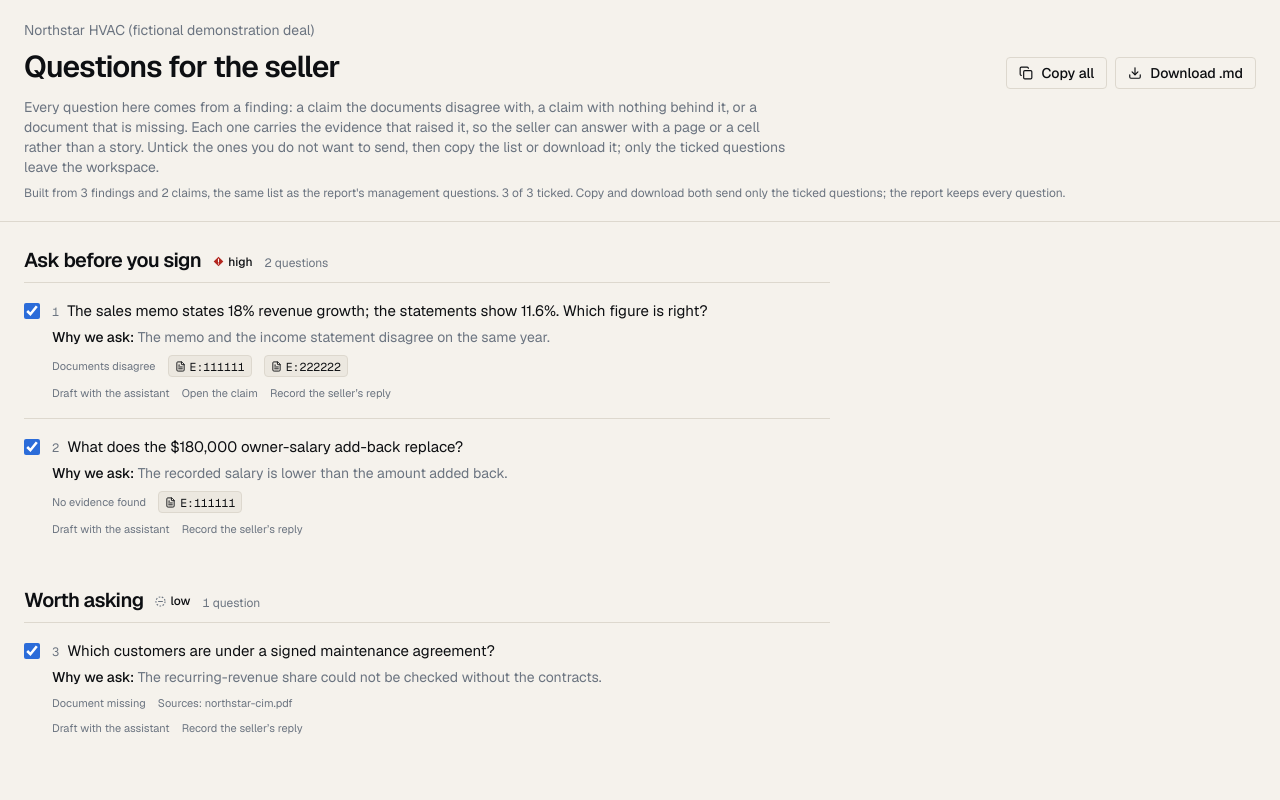
Scenario: Questions for the seller › copies only the ticked questions, with the reason and sources, and every question is ticked by default
The width and height of the screenshot is (1280, 800).
Expected: the checkbox named "Include question 1: The sales memo states 18% revenue growth" is checked, [24,303,40,319]
Expected: the checkbox named "Include question 3: Which customers are under a signed maint" is checked, [24,643,40,659]
What coordinates should you click on to do the following:
click the checkbox named "Include question 2: What does the $180,000 owner-salary add-"
I would click on:
 (32, 447)
Its box is [24,439,40,455].
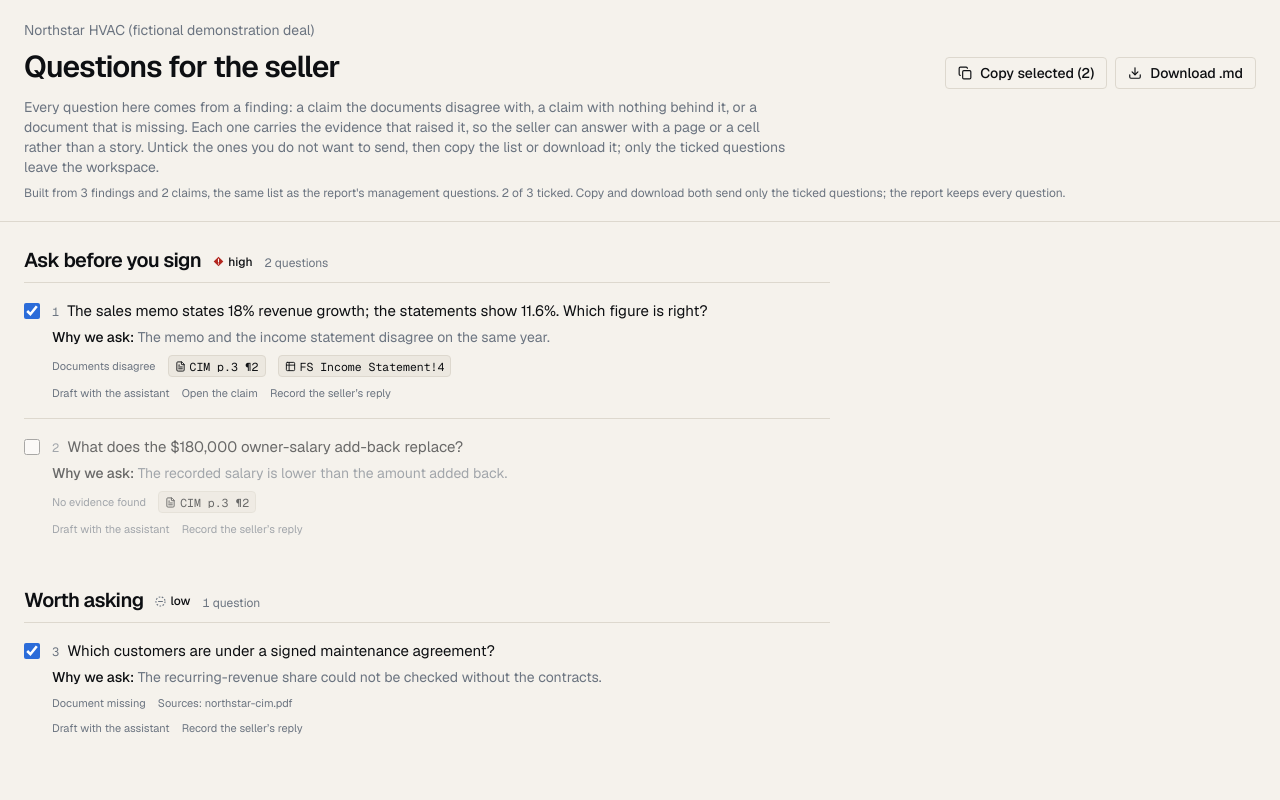
Result: the checkbox named "Include question 2: What does the $180,000 owner-salary add-" is not checked at [24,439,40,455]
Result: the text "ticked." shows "2 of 3 ticked" at [24,185,1065,201]
What coordinates should you click on to do the following:
click the button "Copy selected (2)"
I would click on:
 (1026, 73)
Its box is [945,57,1107,89].
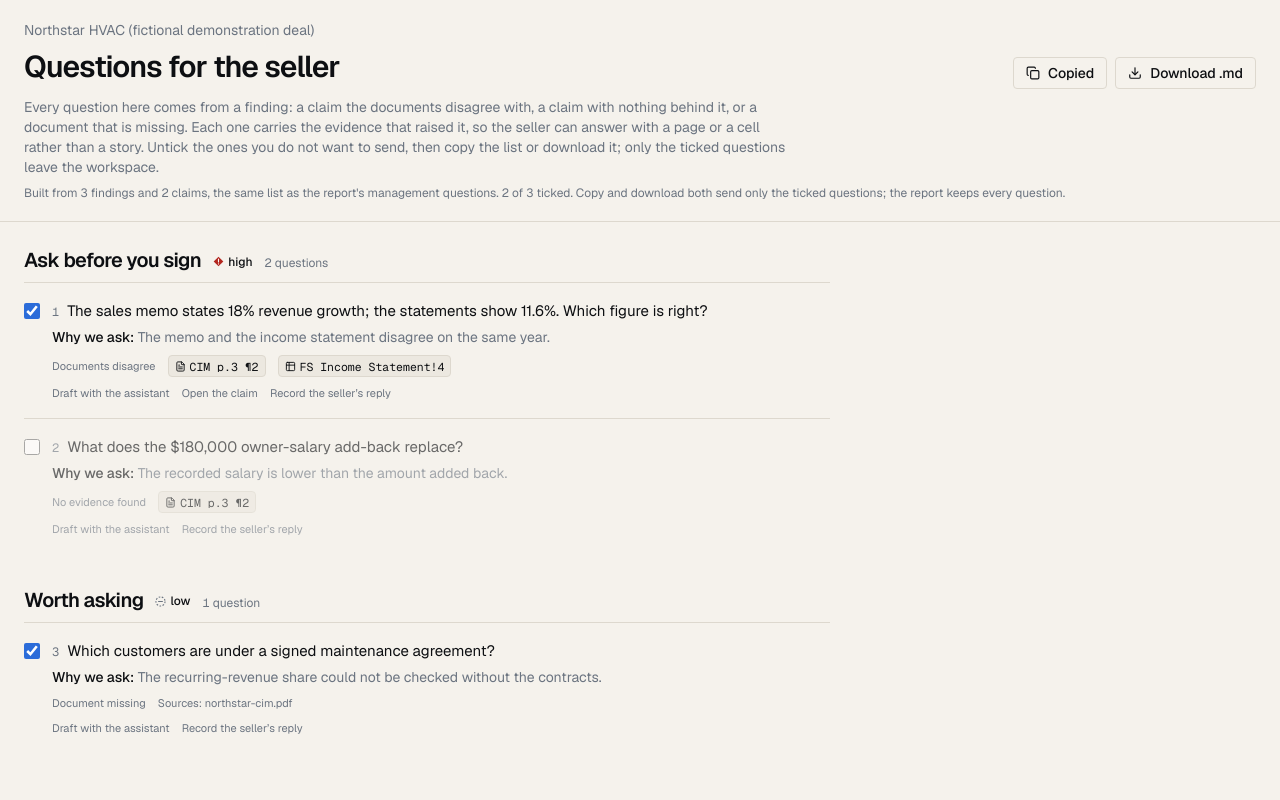
Result: the button "Copied" is shown at [1013,57,1107,89]
